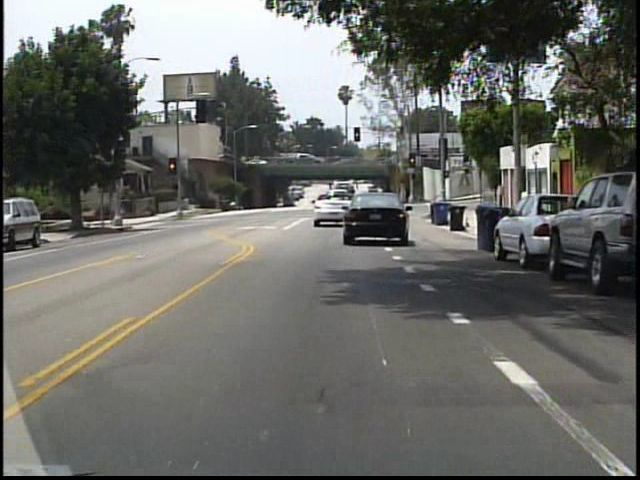person: (46, 200, 62, 234)
